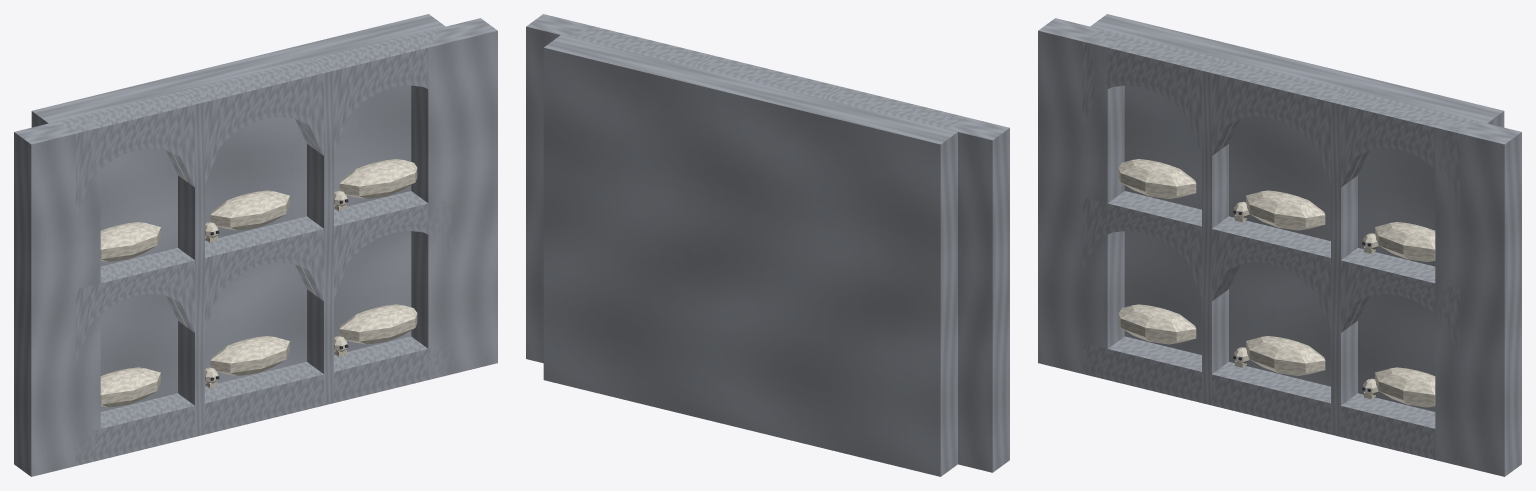
Rendered from vampire-crypt-and-gothic-cathedral-burial-niche-wall-b8fda18d__22978.glb.
The picture shows the model from 3 angles, left to right: view 1: azimuth 30°, elevation 25°; view 2: azimuth 150°, elevation 25°; view 3: azimuth 330°, elevation 25°; orthographic projection.
Visible parts, largest first — view 1: burial-niche-wall; view 2: burial-niche-wall; view 3: burial-niche-wall.
Boxes of the visible parts, box(x1,y1,x2,y2) form: burial-niche-wall: box(14, 14, 497, 476); burial-niche-wall: box(526, 14, 1009, 476); burial-niche-wall: box(1038, 14, 1521, 476).
Size of the model in its own units: 4.7 by 3.2 by 0.6001.
Materials: 3 (2 with a texture image).
